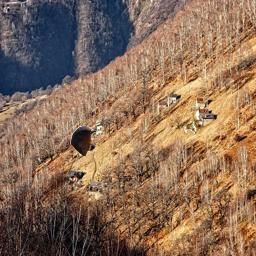Swallow: (70, 125, 97, 156)
